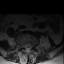CCS_normal: (26, 44, 28, 53)
LFS_normal: (31, 42, 33, 49)
LLS_normal: (28, 44, 31, 52)
RFS_stenosis: (22, 42, 24, 49)
RLS_normal: (24, 44, 26, 52)
